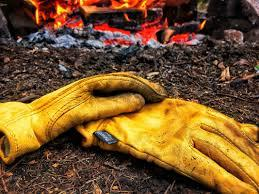gloves: (76, 98, 259, 194), (1, 67, 168, 166)
